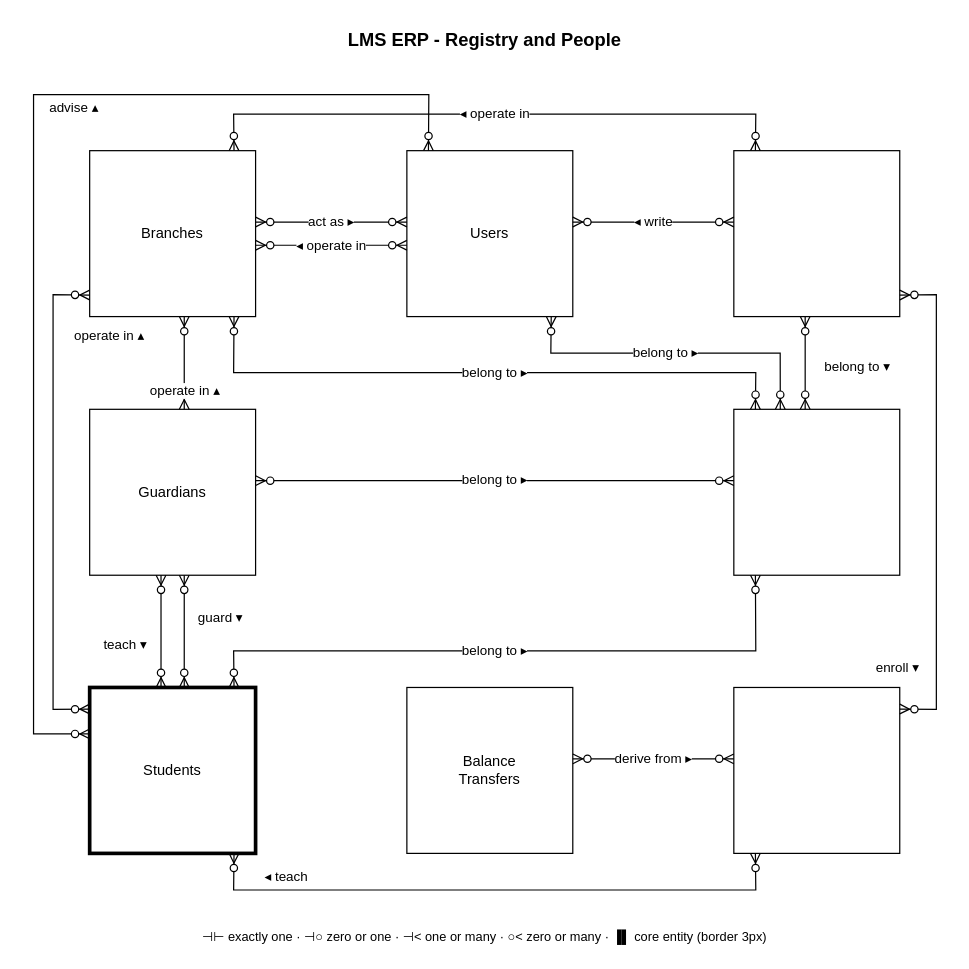
This 969x969 diagram has some shape labels left out. Here are the shapes that lost their labels. From the top down, the box of each, then its label:
(733, 149, 900, 317): Student Notes
(733, 408, 900, 575): Centers
(733, 686, 900, 853): Enrollments
